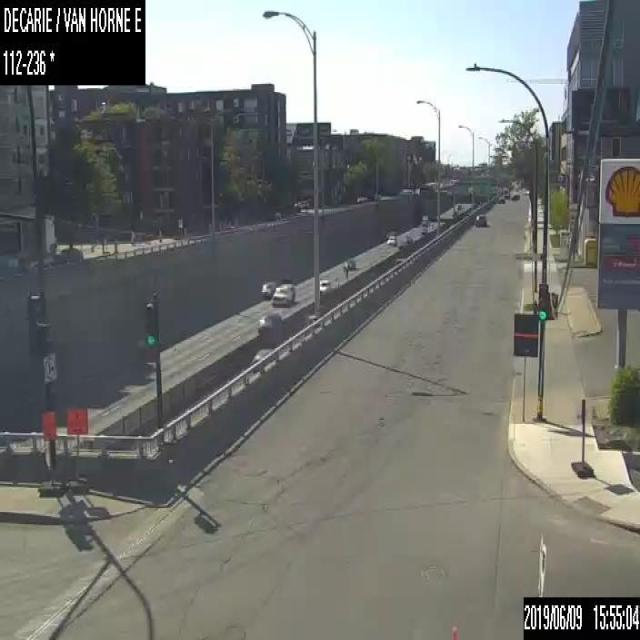construction: (64, 402, 88, 493), (38, 408, 63, 495), (569, 401, 594, 476), (449, 625, 456, 639)
vehicle: (20, 249, 54, 268), (270, 282, 296, 306), (250, 346, 274, 371), (257, 311, 282, 332), (54, 246, 82, 264), (260, 280, 276, 298), (318, 278, 331, 292), (392, 253, 405, 267), (420, 214, 429, 233), (342, 258, 355, 270), (474, 213, 486, 226), (294, 200, 308, 208), (387, 234, 397, 245), (510, 192, 520, 200), (502, 185, 508, 197), (497, 194, 504, 203)
